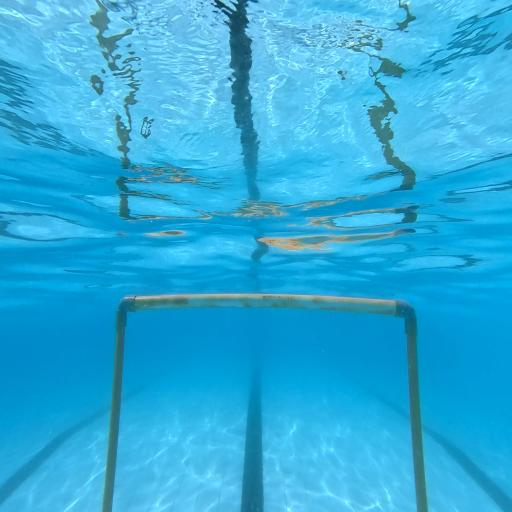gate: (102, 293, 428, 512)
